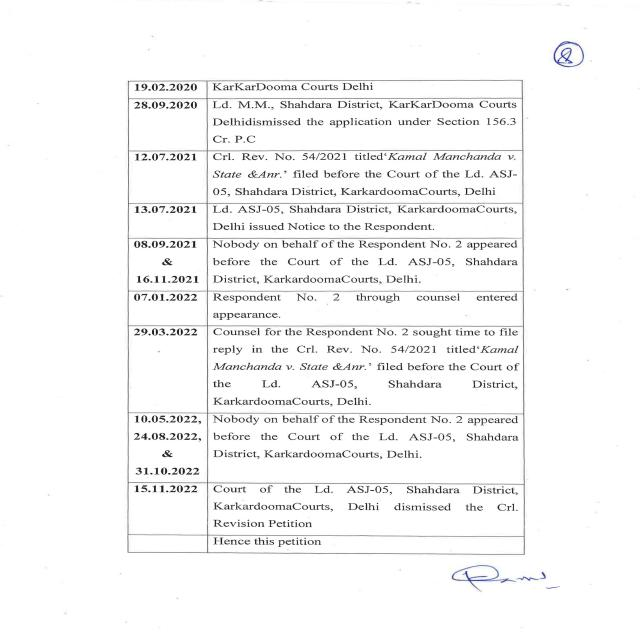page-number: (415, 0, 639, 76)
